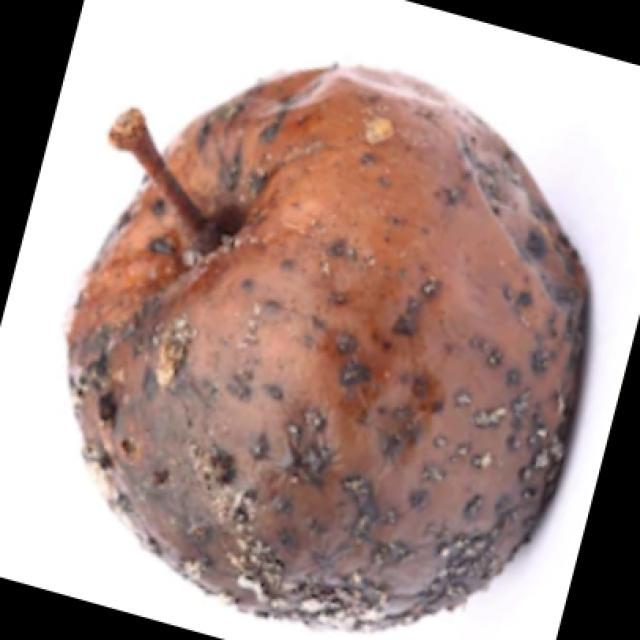Rotten: (82, 67, 575, 625)
